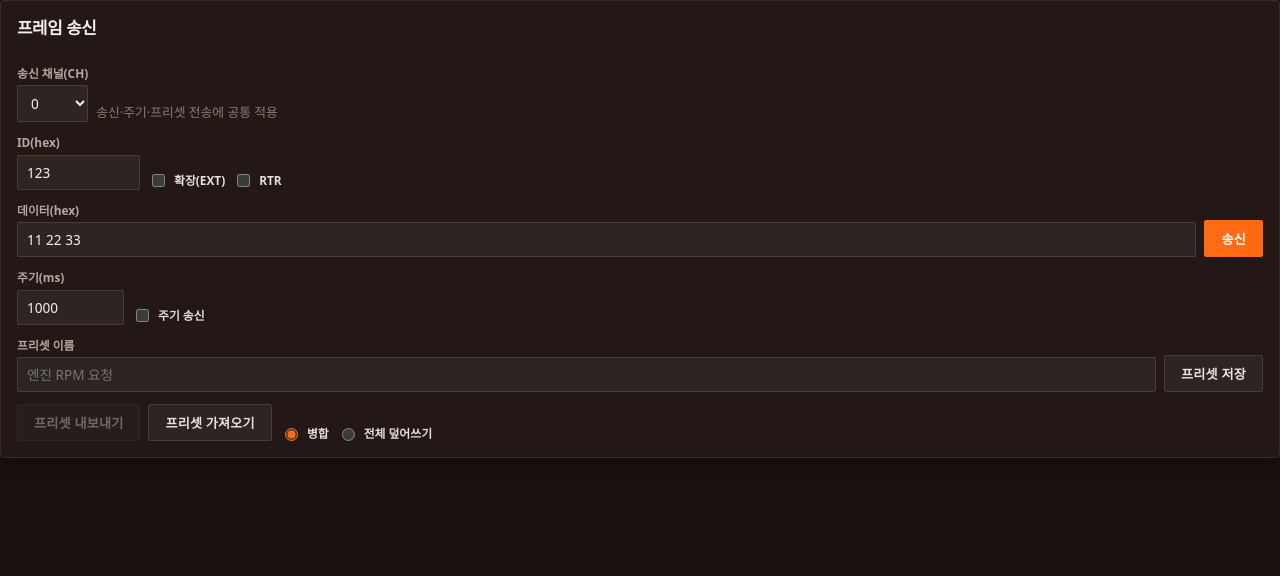
Scenario: 프리셋 저장 시 같은 이름 덮어쓰기 확인 › 새 이름은 확인 없이 즉시 저장된다
Replace the text in the field labelled "ID(hex)" with "7DF" at (78, 172), box [17,155,140,190]
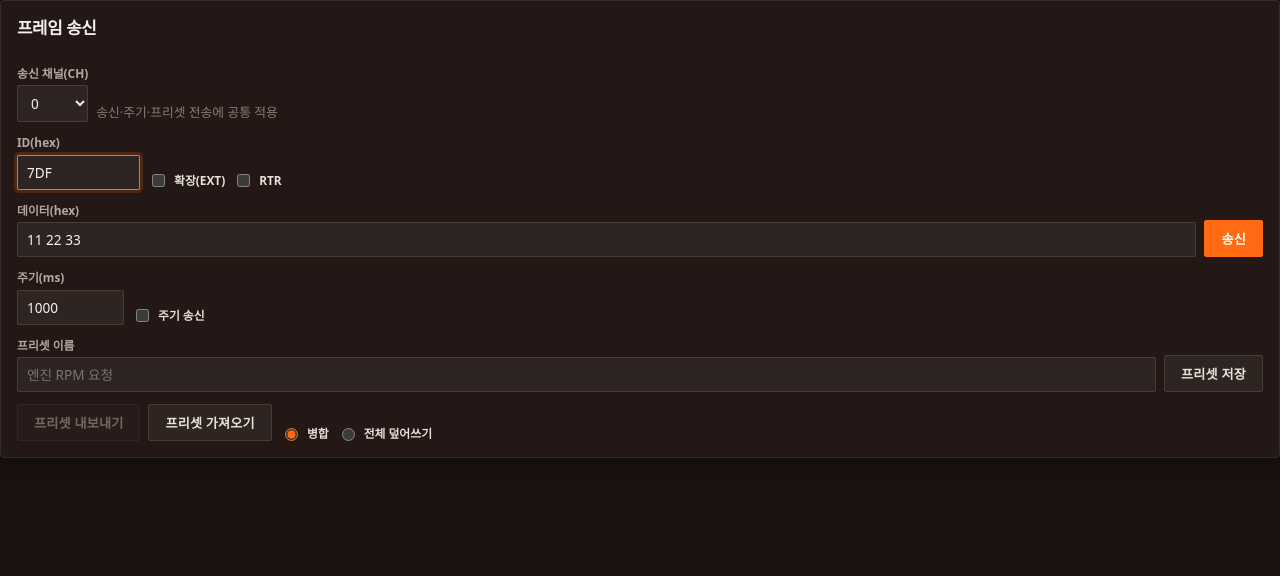
Type "신규" into the field with placeholder "엔진 RPM 요청" at (587, 375), box [17,357,1156,392]
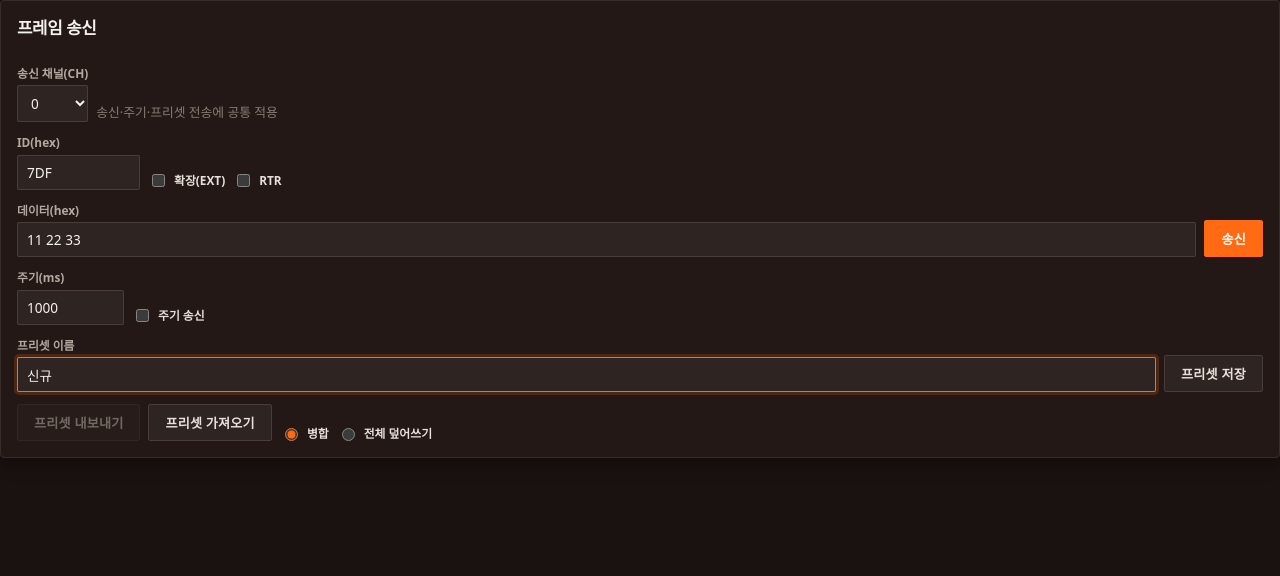
Click the button "프리셋 저장" at (1214, 374), box [1164,355,1263,392]
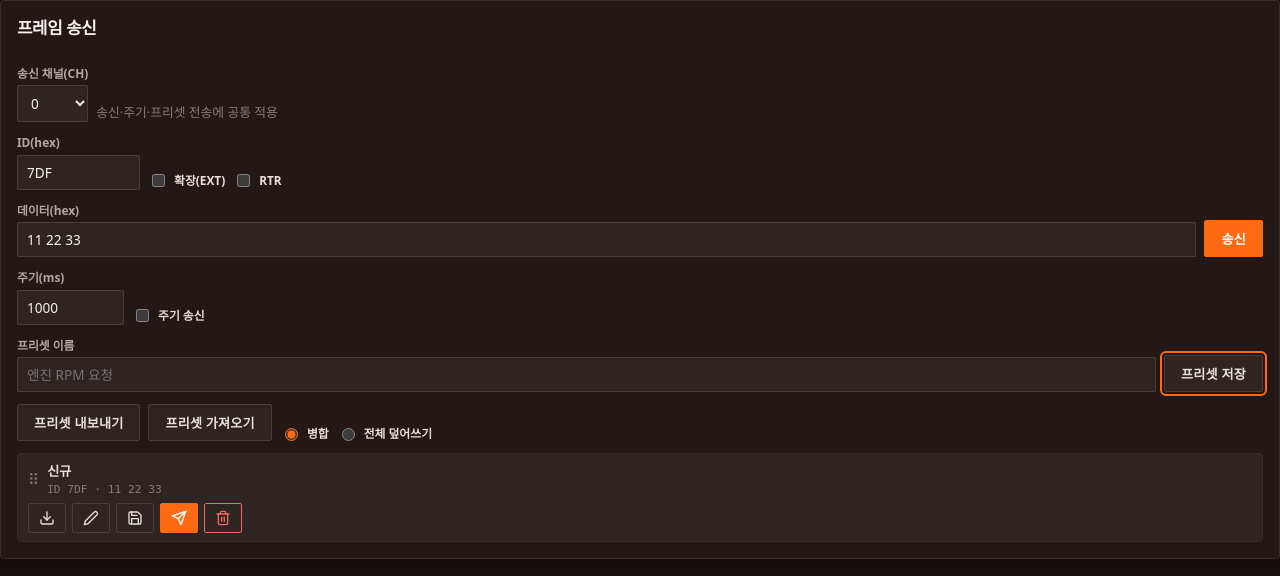
Expected: the text "신규" is shown, [47,462,71,480]
